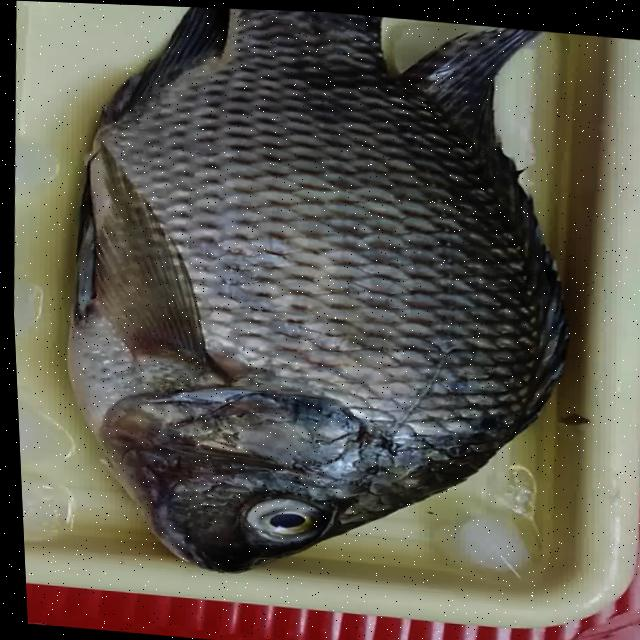Fresh: (69, 84, 574, 483), (228, 487, 341, 549)
